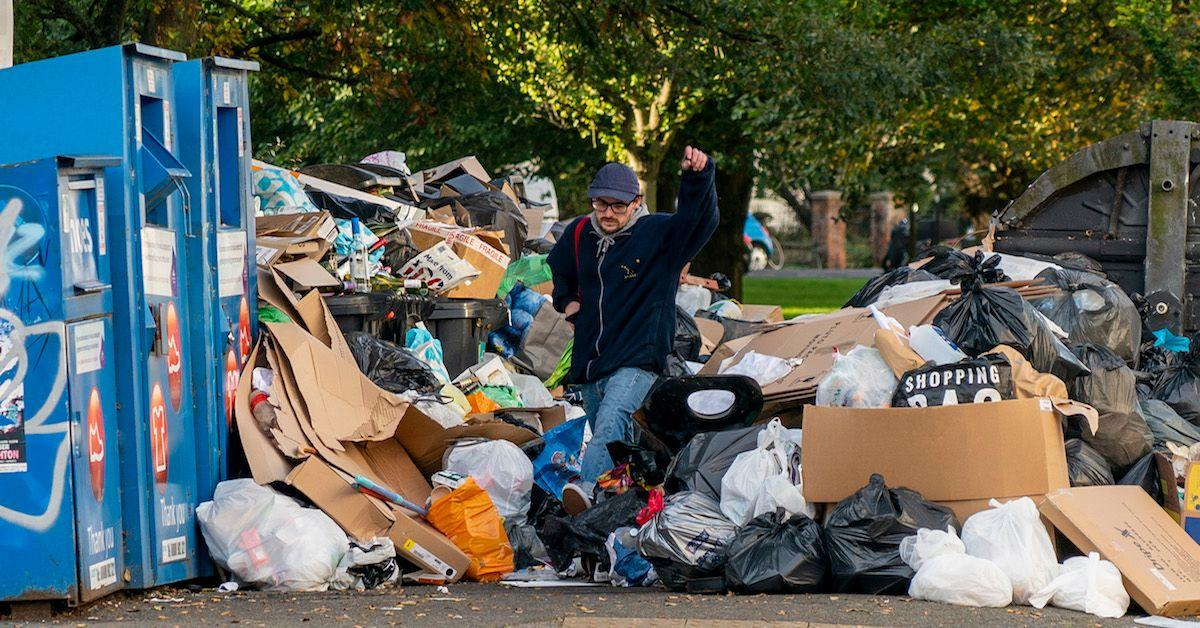garbage: (698, 245, 1197, 628), (233, 149, 546, 570)
